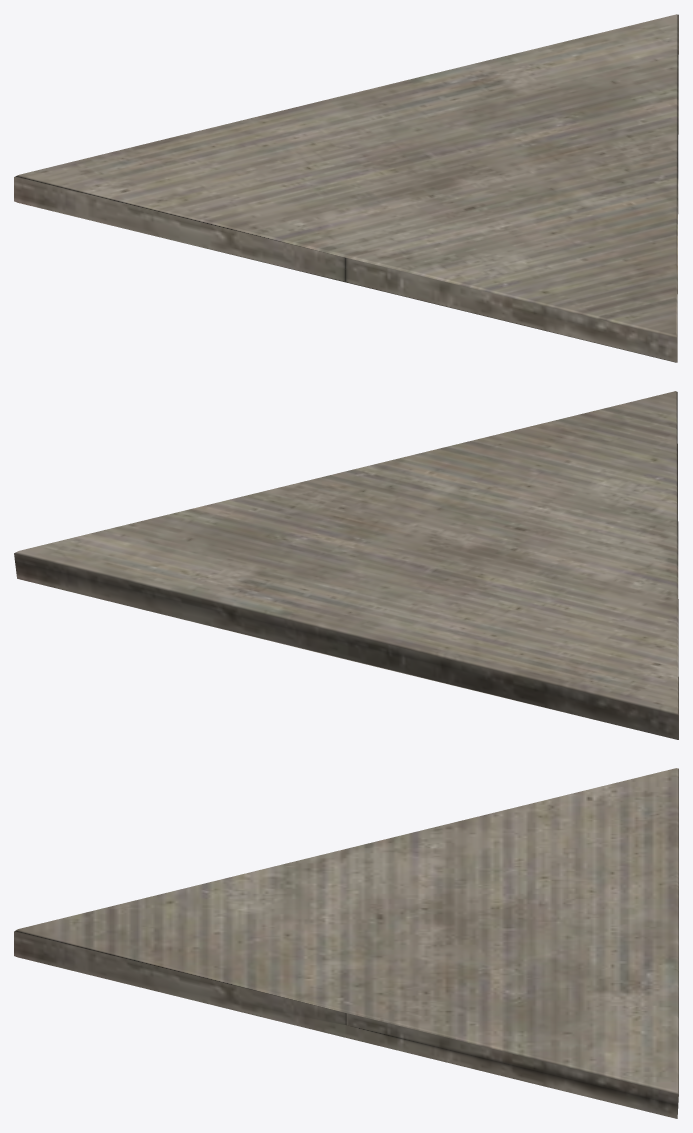
File: floor.triangle.brutalist.glb
3 views of the same model, one above another, from view 1: azimuth 30°, elevation 25°; view 2: azimuth 150°, elevation 25°; view 3: azimuth 270°, elevation 25° (orthographic).
Parts seen in each view (by area): view 1: model; view 2: model; view 3: model.
Boxes of the visible parts, bbox=[...] form: model: bbox=[14, 14, 678, 362]; model: bbox=[14, 391, 678, 739]; model: bbox=[14, 768, 678, 1118].
Bounding box in the file's own units: 3.01 × 0.125 × 2.6.
Materials: 1 (1 with a texture image).
